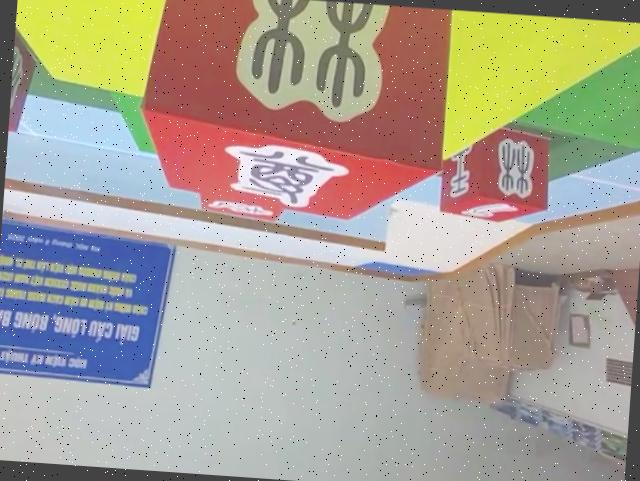R2 Fake: (133, 0, 450, 225), (436, 122, 552, 224), (7, 5, 41, 131)
